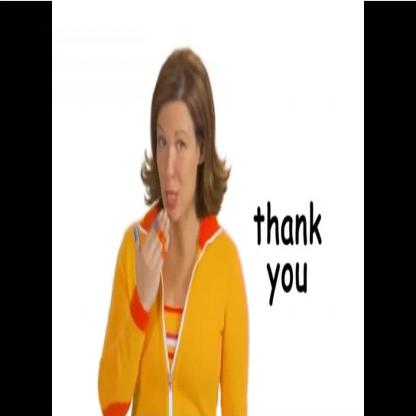ThankYou: (119, 41, 217, 310)
